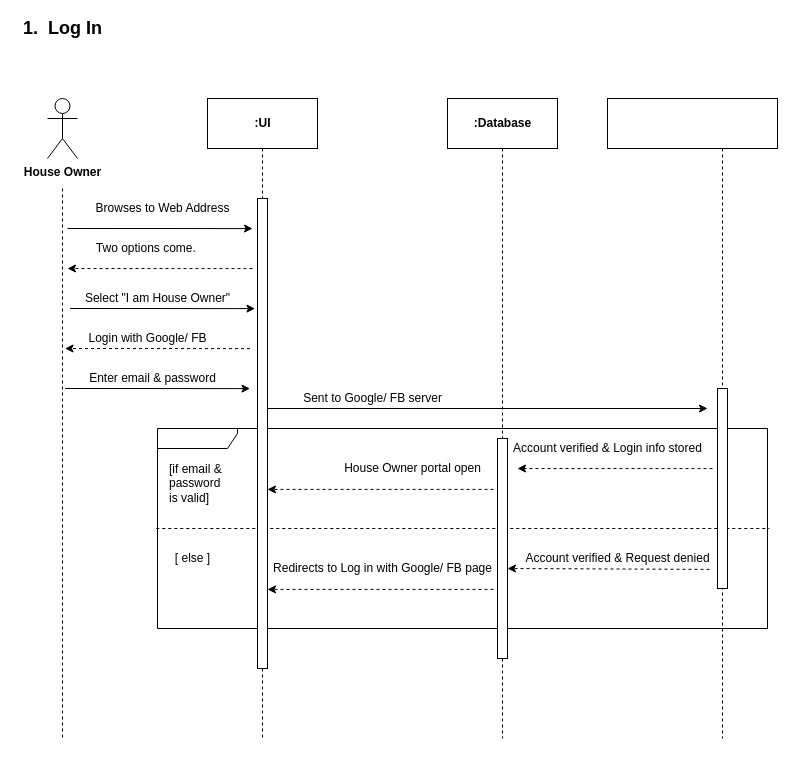
Some shapes in this 795 by 758 pixel diagram are drawn without their labels. The shapes that lost their labels are listed below. From the top down, each one's box as (x1, y1, x2, y2) in pixels, then its label:
(606, 98, 778, 148): :GoogleorFacebookServer
(156, 428, 768, 628): Alternative
